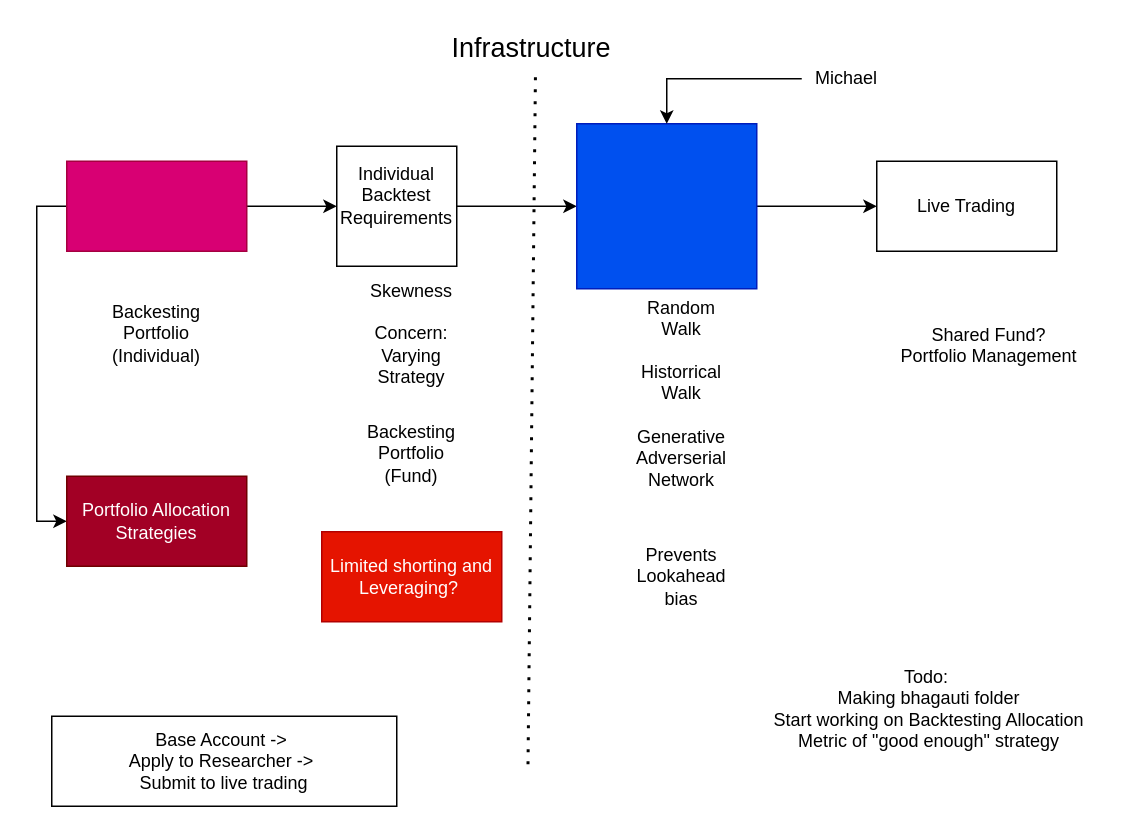
Some shapes in this 1128 by 833 pixel diagram are drawn without their labels. The shapes that lost their labels are listed below. From the top down, each one's box as (x1, y1, x2, y2) in pixels, then its label:
(65, 160, 247, 251): Model Training (Individual)
(575, 122, 757, 289): Paper Trading: Intraday Probability Statistics
